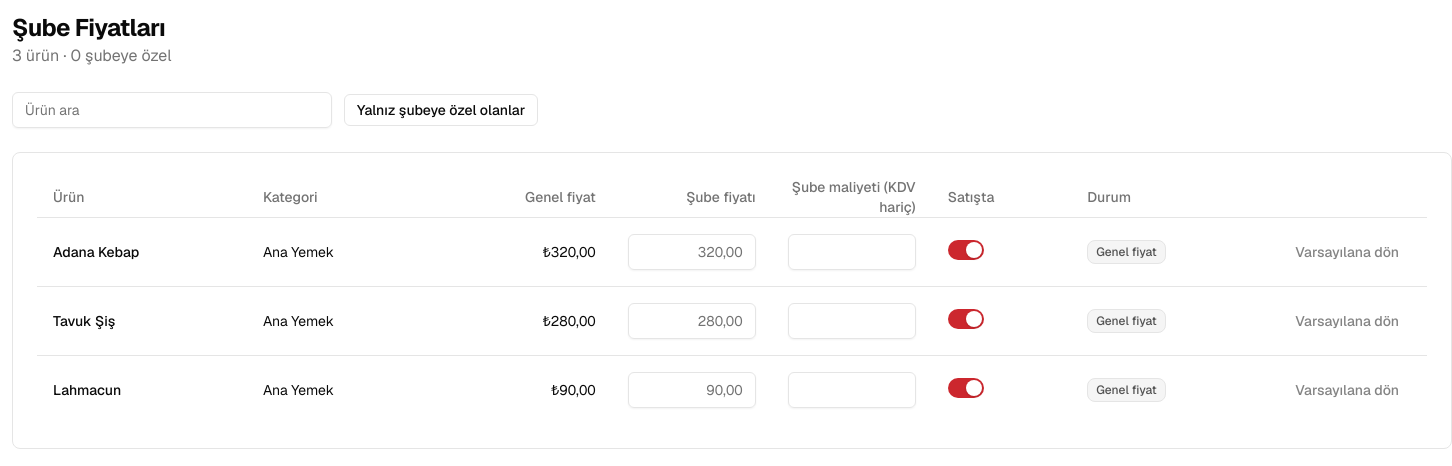
Test: BranchPricing › says every product sells at the tenant price when the override filter finds nothing
The image size is (1452, 466).
Expected: the text "Adana Kebap" is shown, top-left (53, 242), bottom-right (139, 262)
Expected: the row with test id "branch-pricing-row-p1" is shown, top-left (37, 218), bottom-right (1427, 286)
What coordinates should you click on to do the following:
click the button "Yalnız şubeye özel olanlar"
I would click on:
 (441, 110)
Its box is top-left (344, 94), bottom-right (538, 126).
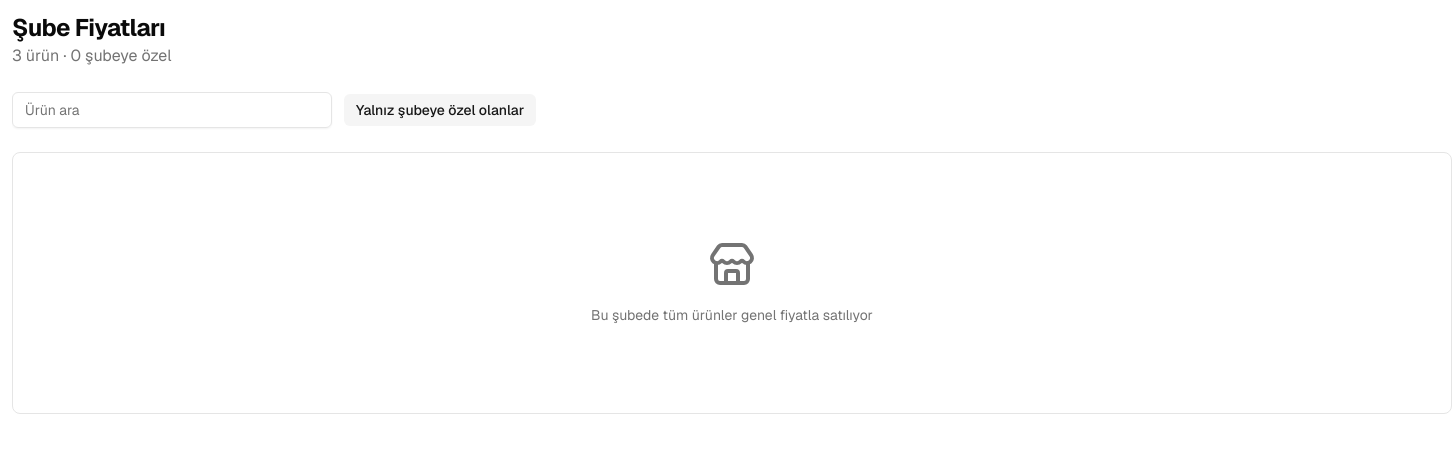
Expected: the text "Bu şubede tüm ürünler genel fiyatla satılıyor" is shown, top-left (591, 305), bottom-right (873, 325)
